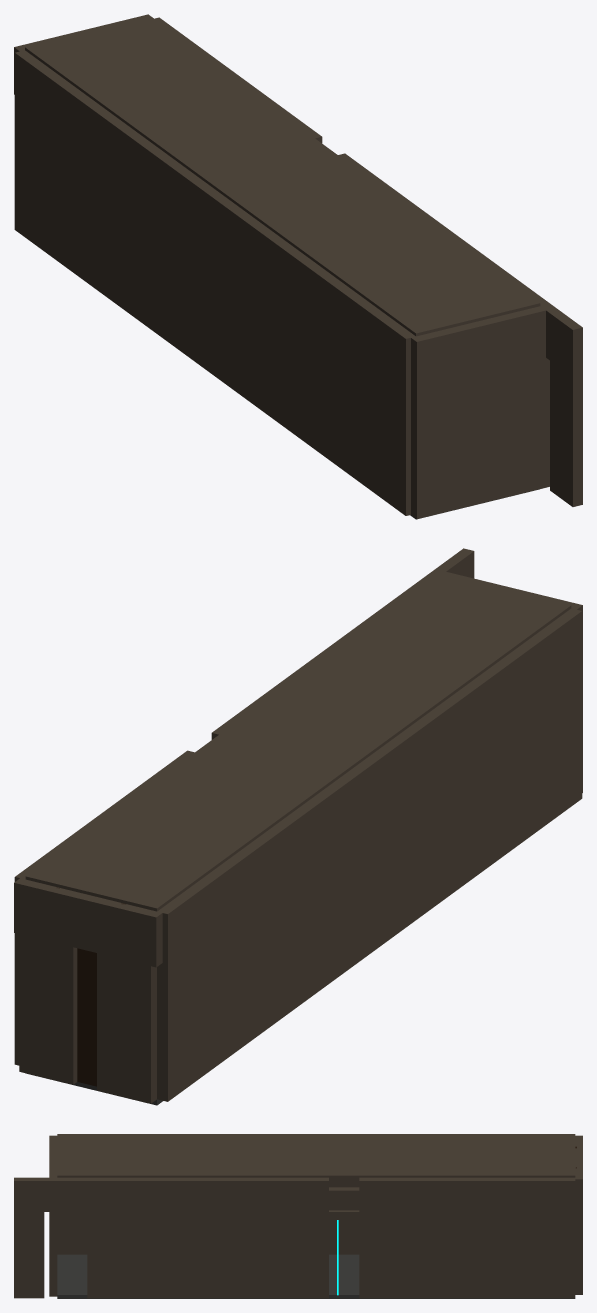
The picture shows the model from 3 angles, top to bottom: view 1: azimuth 30°, elevation 25°; view 2: azimuth 150°, elevation 25°; view 3: azimuth 270°, elevation 25°; orthographic projection. The views are drawn at different scales.
Visible parts, largest first — view 1: Z4_Wall_W, Z4_Ceiling, Z4_Wall_S, Z4_Wall_E_S1, Z4_Wall_E_Mid, Z4_Wall_E_N; view 2: Z4_Wall_W, Z4_Ceiling, Z4_Wall_N_L, Z4_Wall_N_R, Z4_Wall_N_Lintel, Z4_NorthDoor_Leaf, Z4_Wall_E_N, Z4_Wall_E_Mid, Z4_Wall_S; view 3: Z4_Wall_E_Mid, Z4_Wall_E_N, Z4_Ceiling, Z4_Wall_E_S1, Z4_Wall_W, Z4_Floor, Z4_Wall_E_DoorLintel, Z4_Wall_S, Z4_Wall_E_WinLintel, Z4_Wall_N_R, Z4_Wall_E_WinSill, Z4_Wall_N_Lintel (+1 smaller).
Part boxes in pixels (x1,y1,x2,y2): Z4_Wall_W: [14, 50, 415, 515]; Z4_Ceiling: [25, 17, 540, 336]; Z4_Wall_S: [411, 305, 549, 518]; Z4_Wall_E_S1: [550, 311, 582, 506]; Z4_Wall_E_Mid: [338, 153, 526, 288]; Z4_Wall_E_N: [152, 17, 322, 143]; Z4_Wall_W: [157, 608, 582, 1101]; Z4_Ceiling: [25, 573, 571, 911]; Z4_Wall_N_L: [97, 898, 156, 1103]; Z4_Wall_N_R: [19, 879, 78, 1084]; Z4_Wall_N_Lintel: [14, 878, 162, 967]; Z4_NorthDoor_Leaf: [77, 948, 96, 1086]; Z4_Wall_E_N: [14, 750, 194, 1065]; Z4_Wall_E_Mid: [211, 591, 411, 739]; Z4_Wall_S: [435, 570, 582, 792]; Z4_Wall_E_Mid: [87, 1177, 328, 1298]; Z4_Wall_E_N: [359, 1177, 575, 1298]; Z4_Ceiling: [57, 1135, 575, 1179]; Z4_Wall_E_S1: [14, 1177, 44, 1298]; Z4_Wall_W: [57, 1134, 575, 1254]; Z4_Floor: [57, 1254, 575, 1298]; Z4_Wall_E_DoorLintel: [44, 1177, 87, 1211]; Z4_Wall_S: [49, 1135, 57, 1296]; Z4_Wall_E_WinLintel: [316, 1187, 359, 1210]; Z4_Wall_N_R: [575, 1161, 582, 1294]; Z4_Wall_E_WinSill: [316, 1210, 359, 1219]; Z4_Wall_N_Lintel: [575, 1135, 582, 1210].
Bounding box in the file's own units: 2.56 × 3.15 × 13.18.
